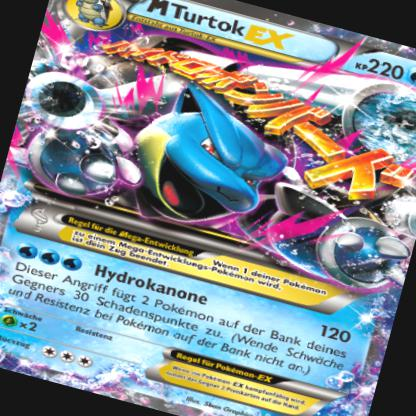Blastoise: (6, 29, 302, 252)
